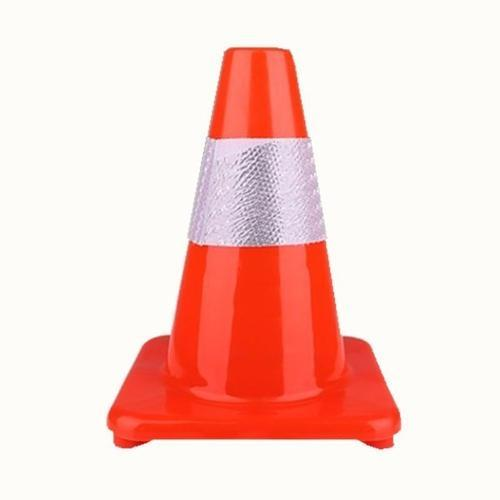cone_barrel: (151, 56, 366, 418)
